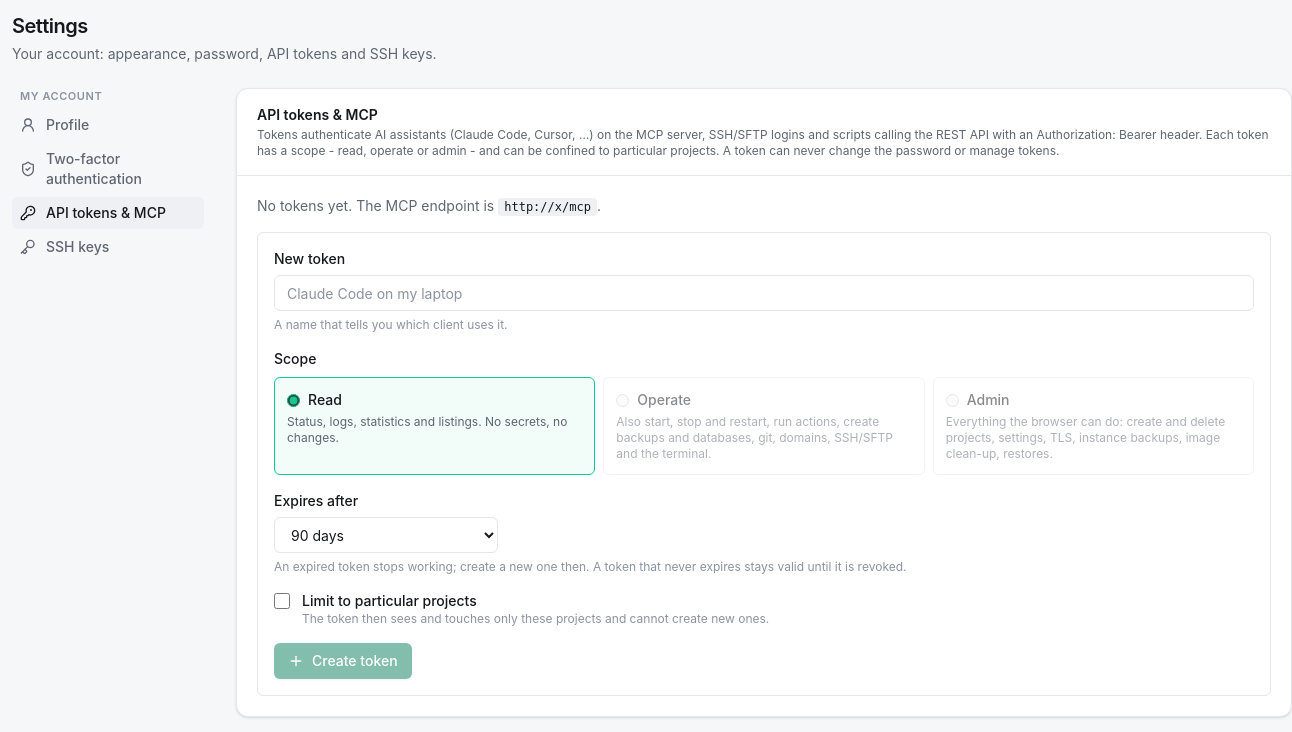
Test case: Roles in the UI › shows a user who is not an admin only their account settings
Step 1. Click the link "SSH keys" → click(65, 246), box [20,238,109,254]
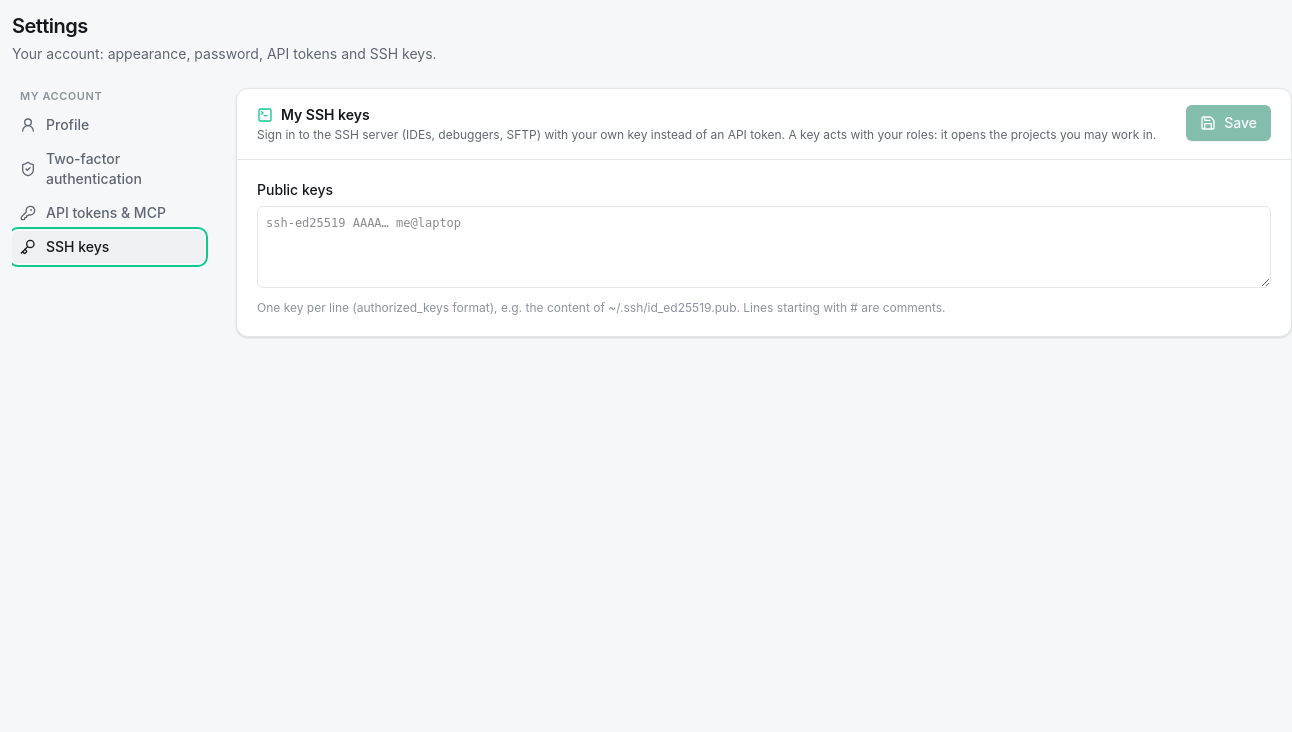
expect the text "My SSH keys" is shown: met, box [257,106,370,123]
